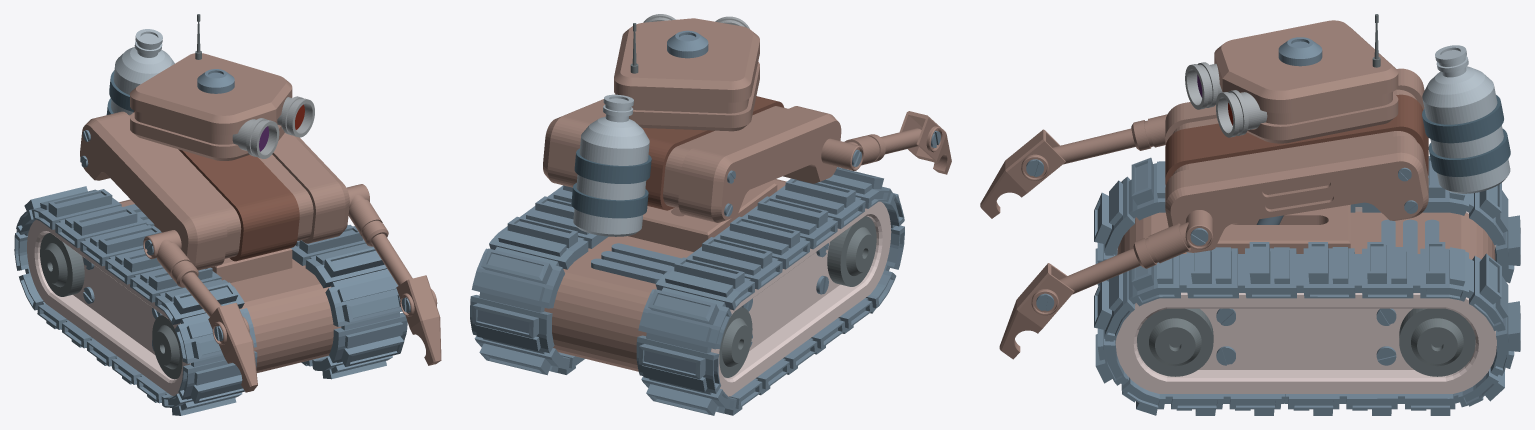
The model's file is brave_robot.glb.
The picture shows the model from 3 angles, left to right: view 1: azimuth 30°, elevation 25°; view 2: azimuth 150°, elevation 25°; view 3: azimuth 270°, elevation 25°; orthographic projection. The views are drawn at different scales.
Visible parts, largest first — view 1: Robot; view 2: Robot; view 3: Robot.
Boxes of the visible parts, x1,y1,x2,y2 form: Robot: (14, 14, 441, 415); Robot: (470, 14, 951, 415); Robot: (980, 14, 1520, 415).
Size of the model in its own units: 0.9155 by 1.2 by 1.67.
Materials: 1 (1 with a texture image).
